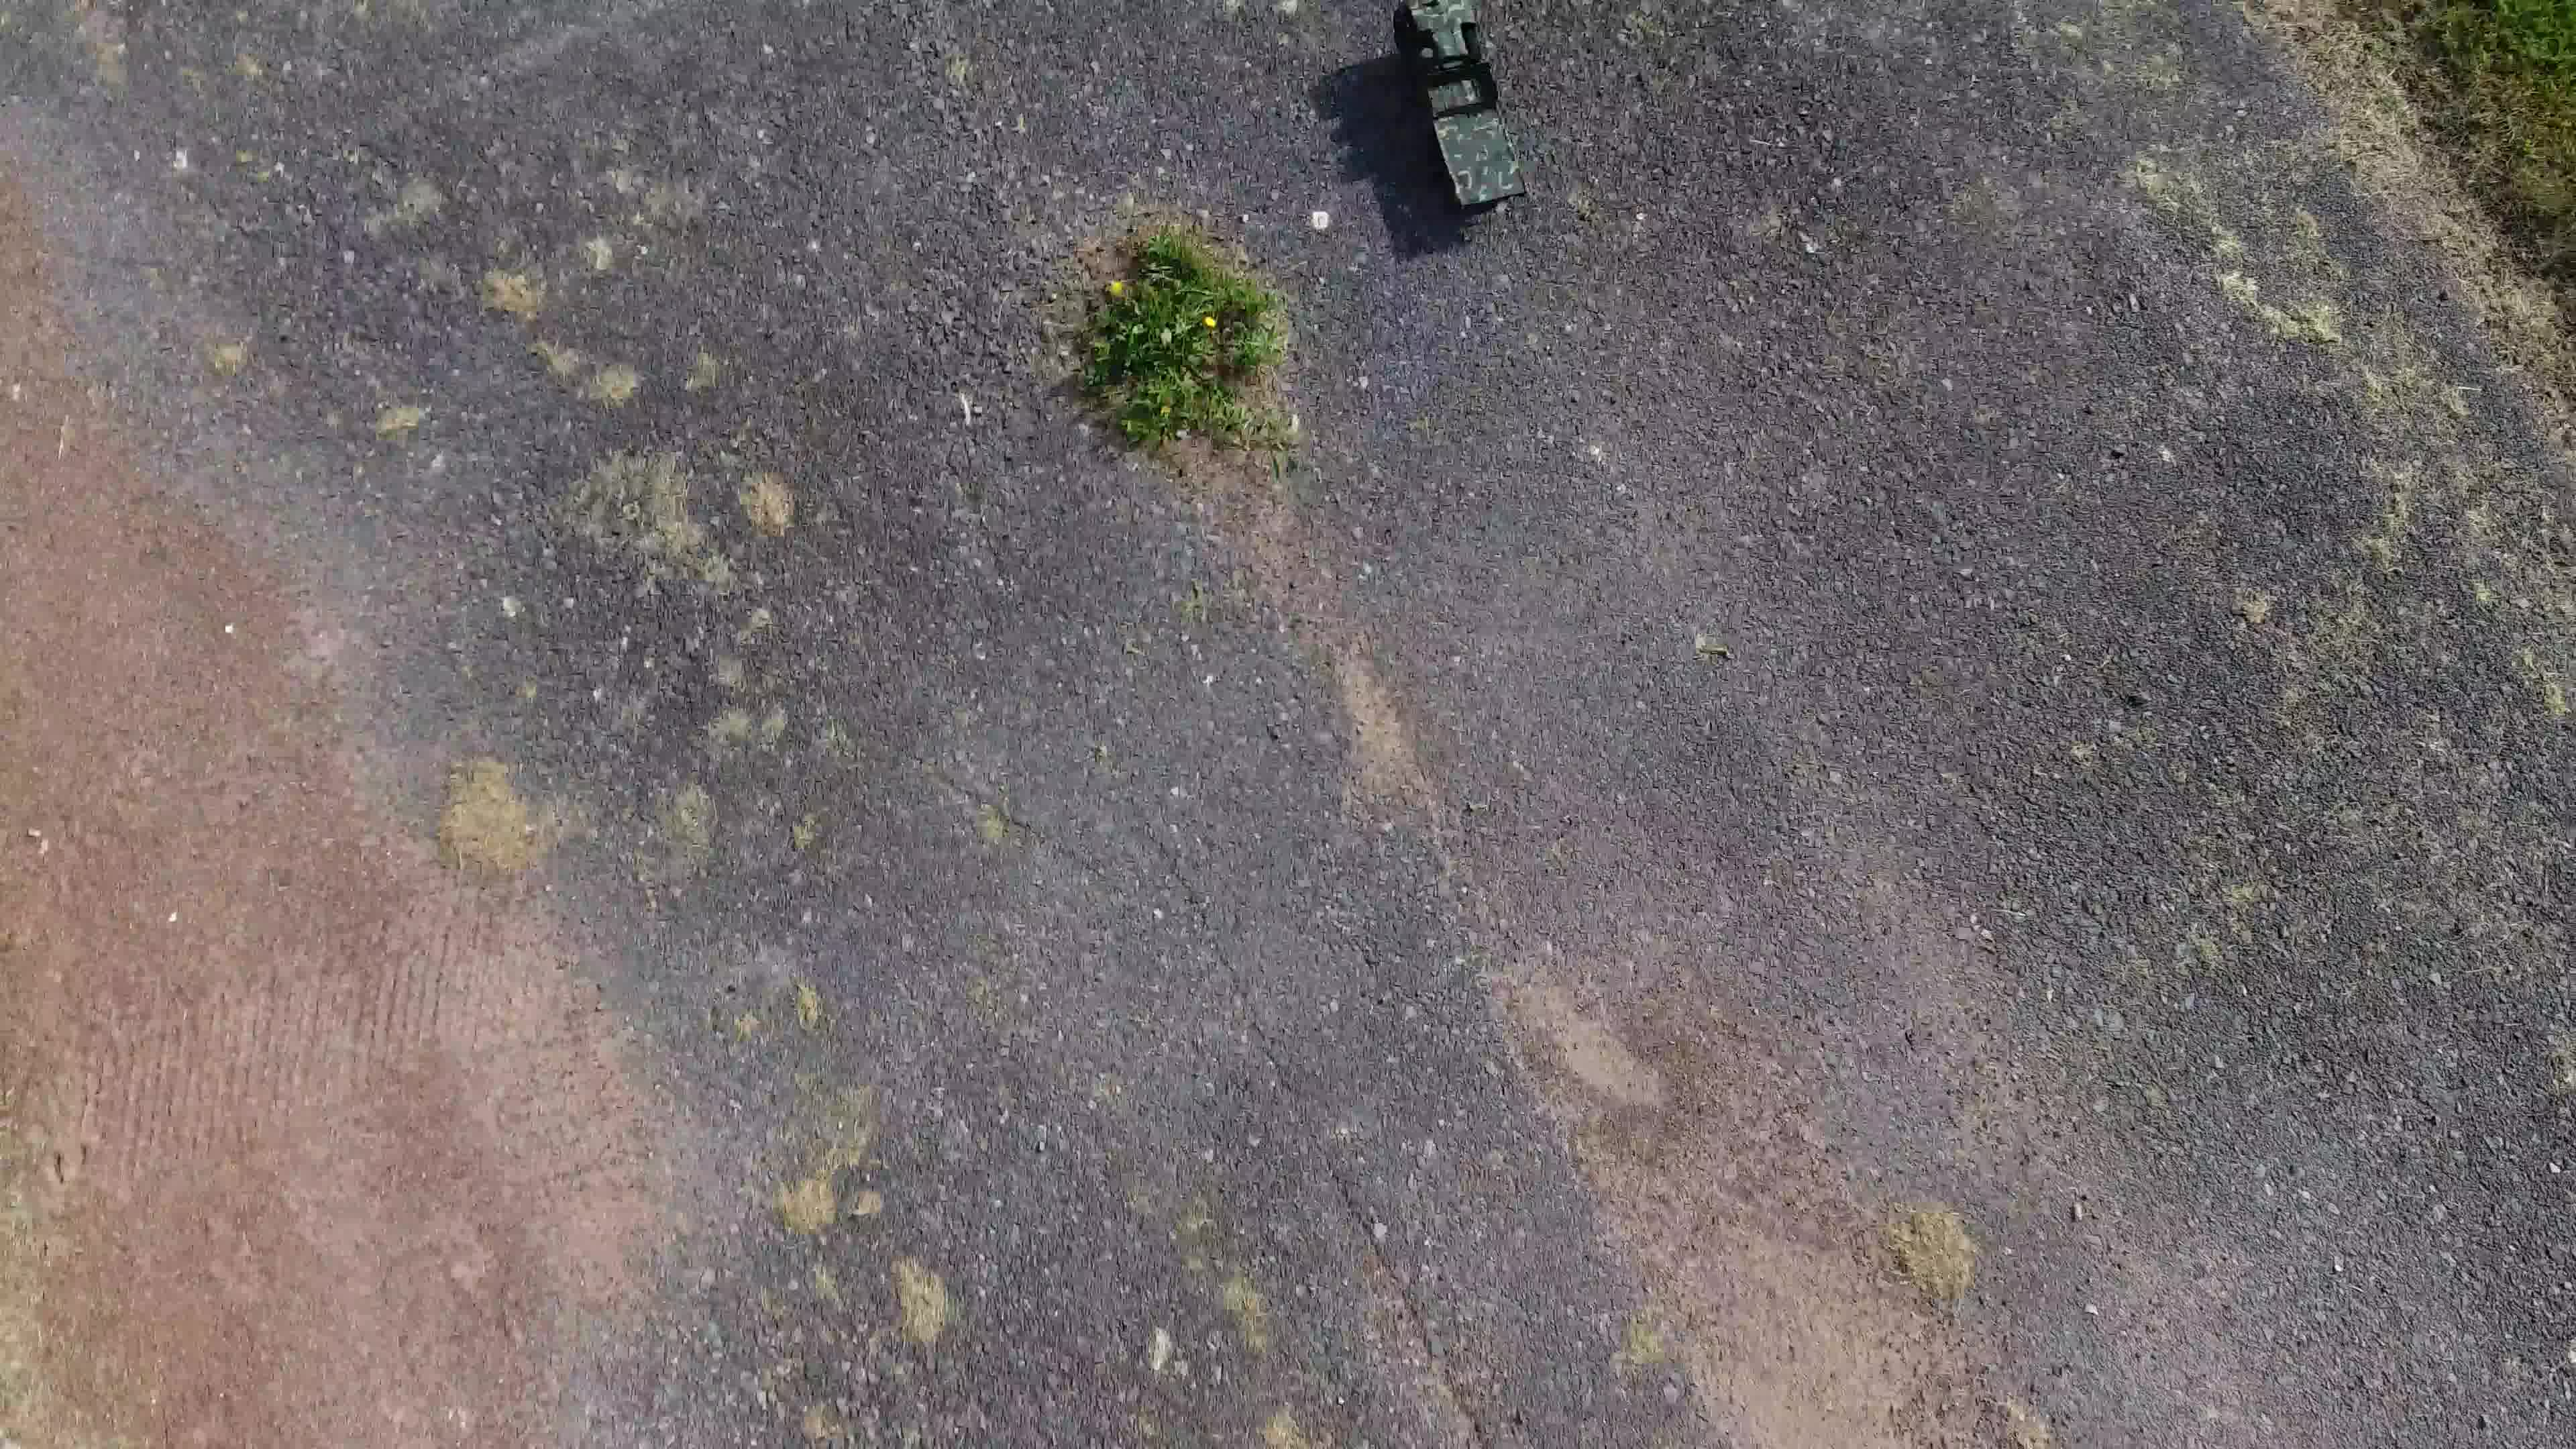transporter9_camo: (1387, 0, 1539, 211)
